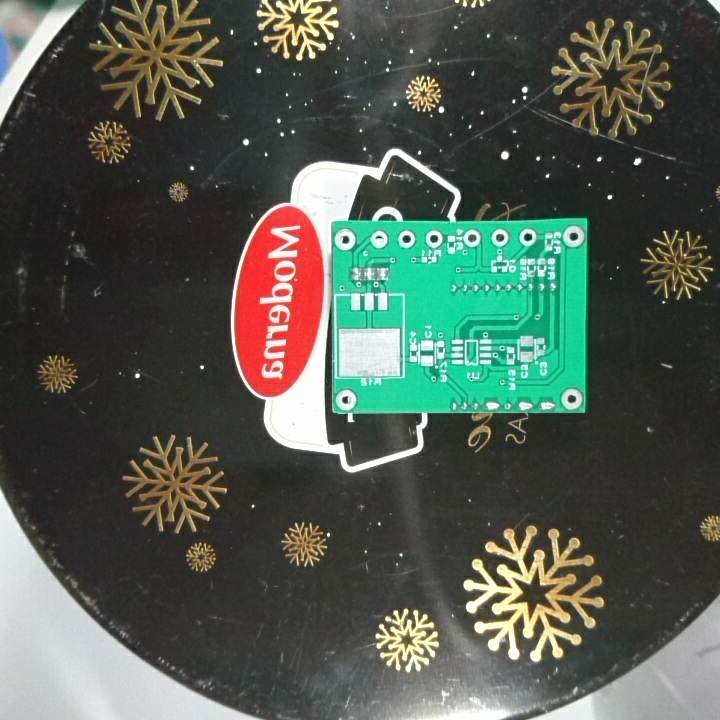F: (559, 386, 585, 412), (561, 223, 585, 251), (333, 226, 358, 252), (333, 387, 358, 411), (514, 227, 539, 248), (395, 229, 418, 251), (488, 229, 511, 249), (368, 230, 390, 250), (460, 229, 483, 248), (423, 230, 446, 249)
P: (515, 398, 536, 413), (483, 397, 502, 412), (538, 398, 557, 412)
